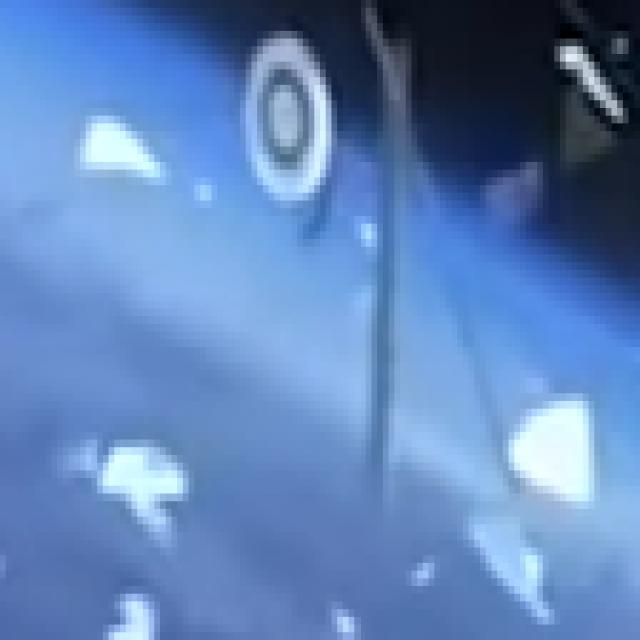large_debris: (344, 0, 485, 529), (66, 398, 202, 640), (540, 7, 640, 239), (237, 20, 340, 203), (495, 348, 584, 551), (466, 485, 558, 640), (74, 84, 158, 192)
